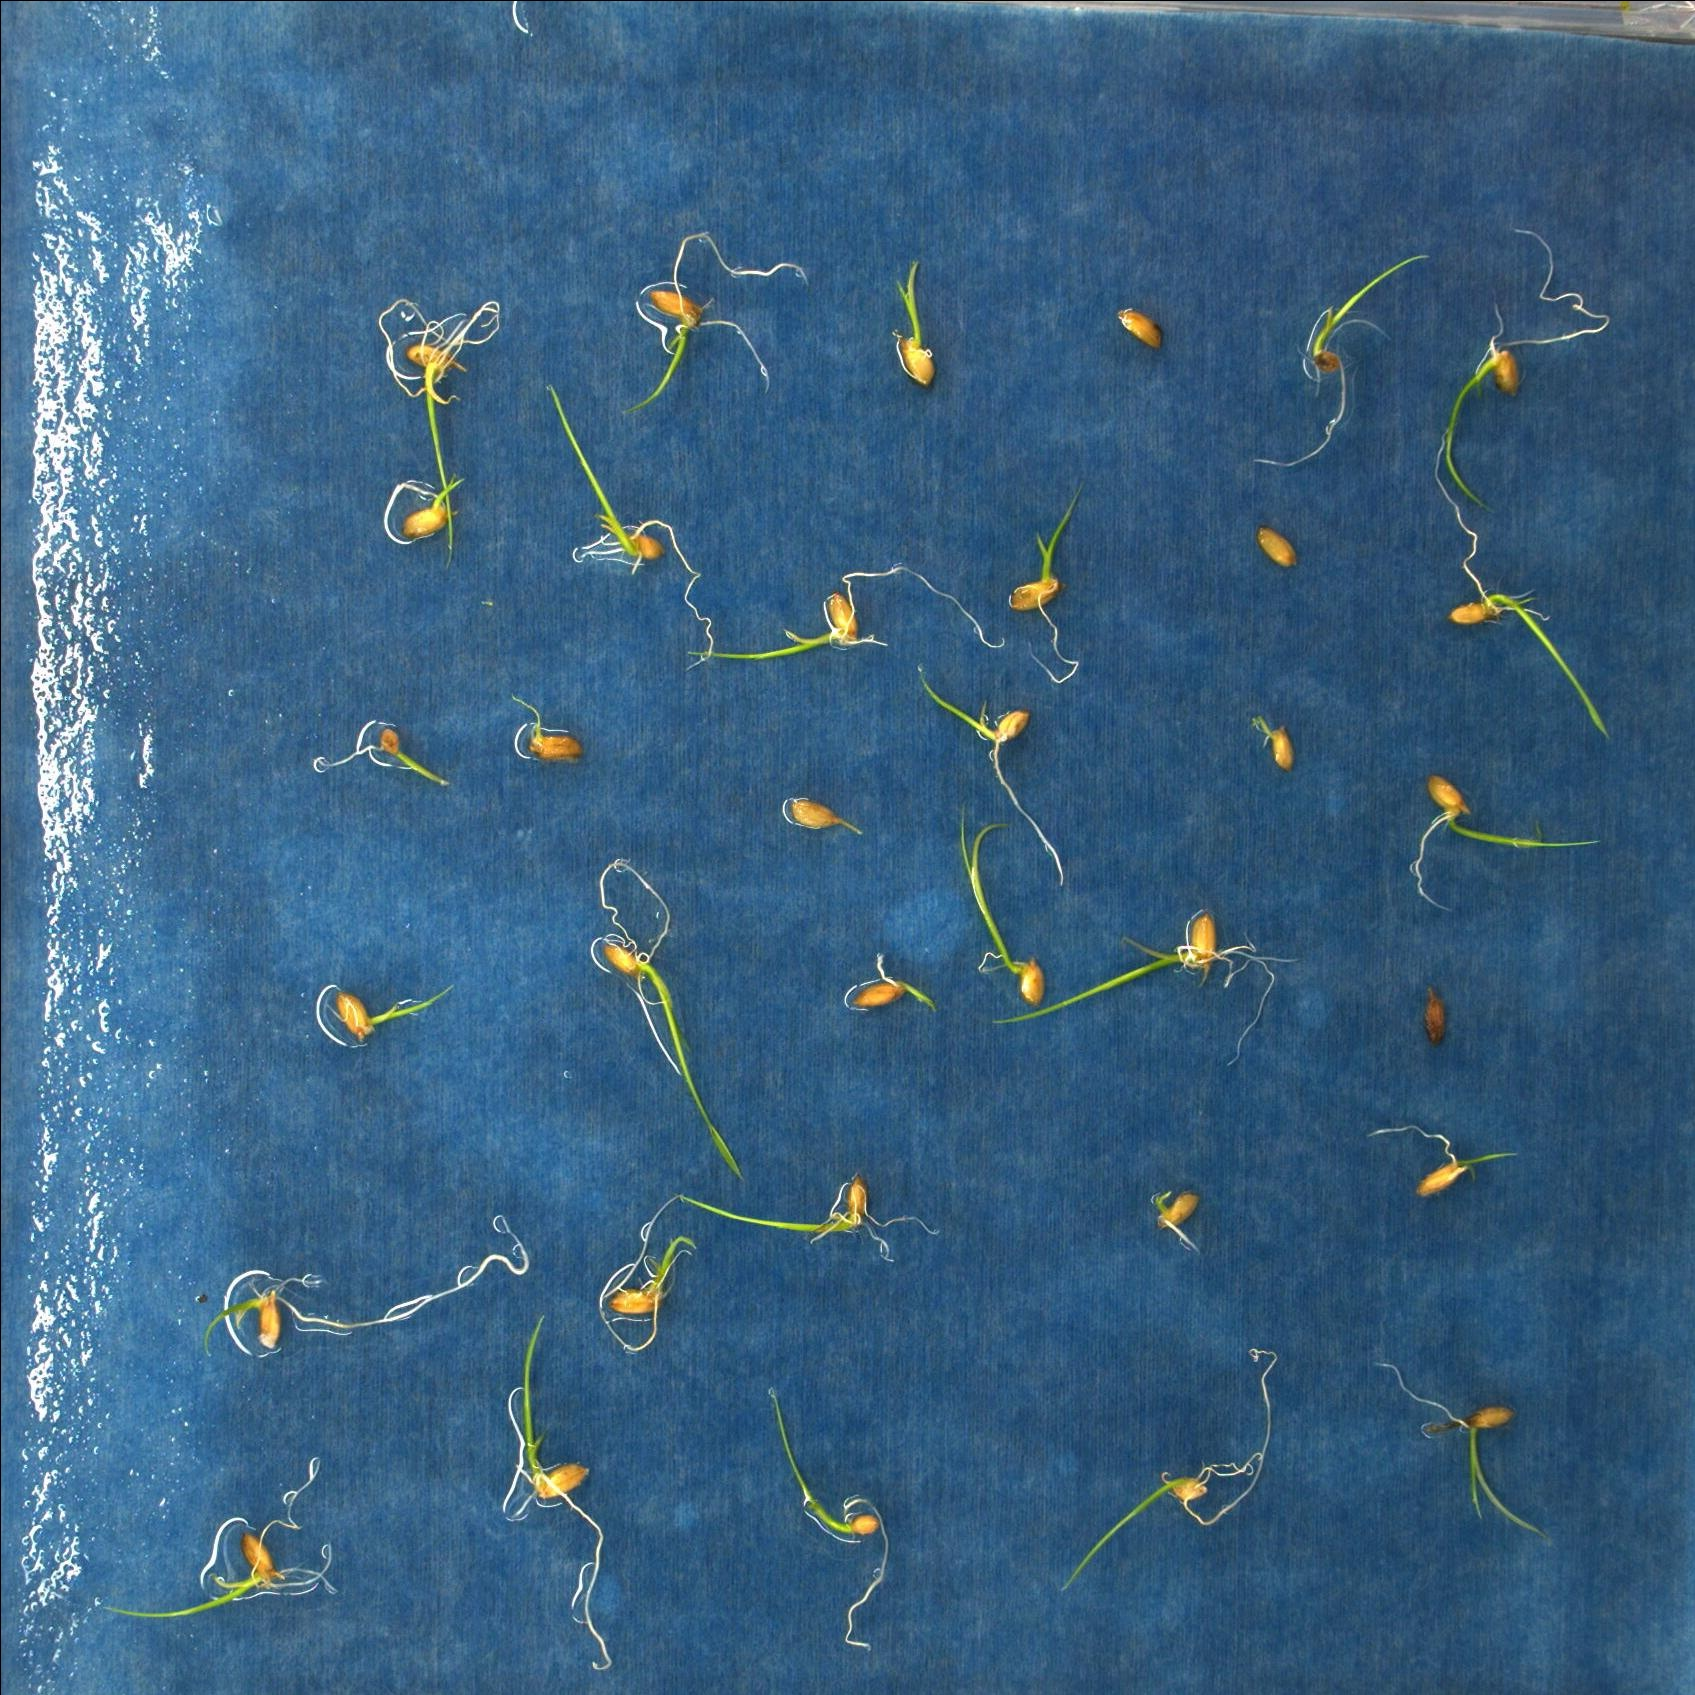not sprout: (1135, 1170, 1215, 1254), (778, 787, 865, 841), (1250, 714, 1305, 782), (1108, 292, 1167, 355), (1411, 978, 1453, 1045), (1253, 518, 1301, 565)
sprout: (1419, 439, 1614, 744), (581, 849, 751, 1191), (1048, 1333, 1277, 1586), (497, 1301, 644, 1673), (543, 374, 720, 672), (1442, 216, 1617, 511), (1000, 906, 1298, 1066), (210, 1214, 532, 1357), (96, 1454, 352, 1624), (900, 653, 1077, 889), (753, 1380, 902, 1658), (371, 286, 506, 560), (1257, 237, 1406, 472), (688, 560, 1003, 667), (622, 224, 802, 404), (1377, 1352, 1541, 1537), (671, 1173, 945, 1277), (1412, 775, 1603, 906), (577, 1180, 709, 1360), (944, 810, 1060, 1004), (995, 483, 1104, 653), (1360, 1116, 1534, 1201), (304, 709, 452, 787), (317, 978, 466, 1043), (500, 677, 604, 768), (380, 470, 486, 560), (889, 258, 958, 390), (849, 955, 941, 1020)
